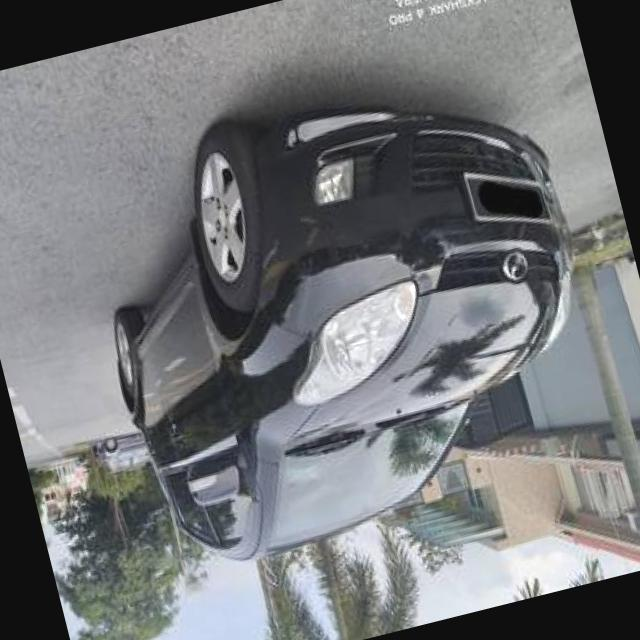PeroduaMyvi: (62, 44, 633, 586)
